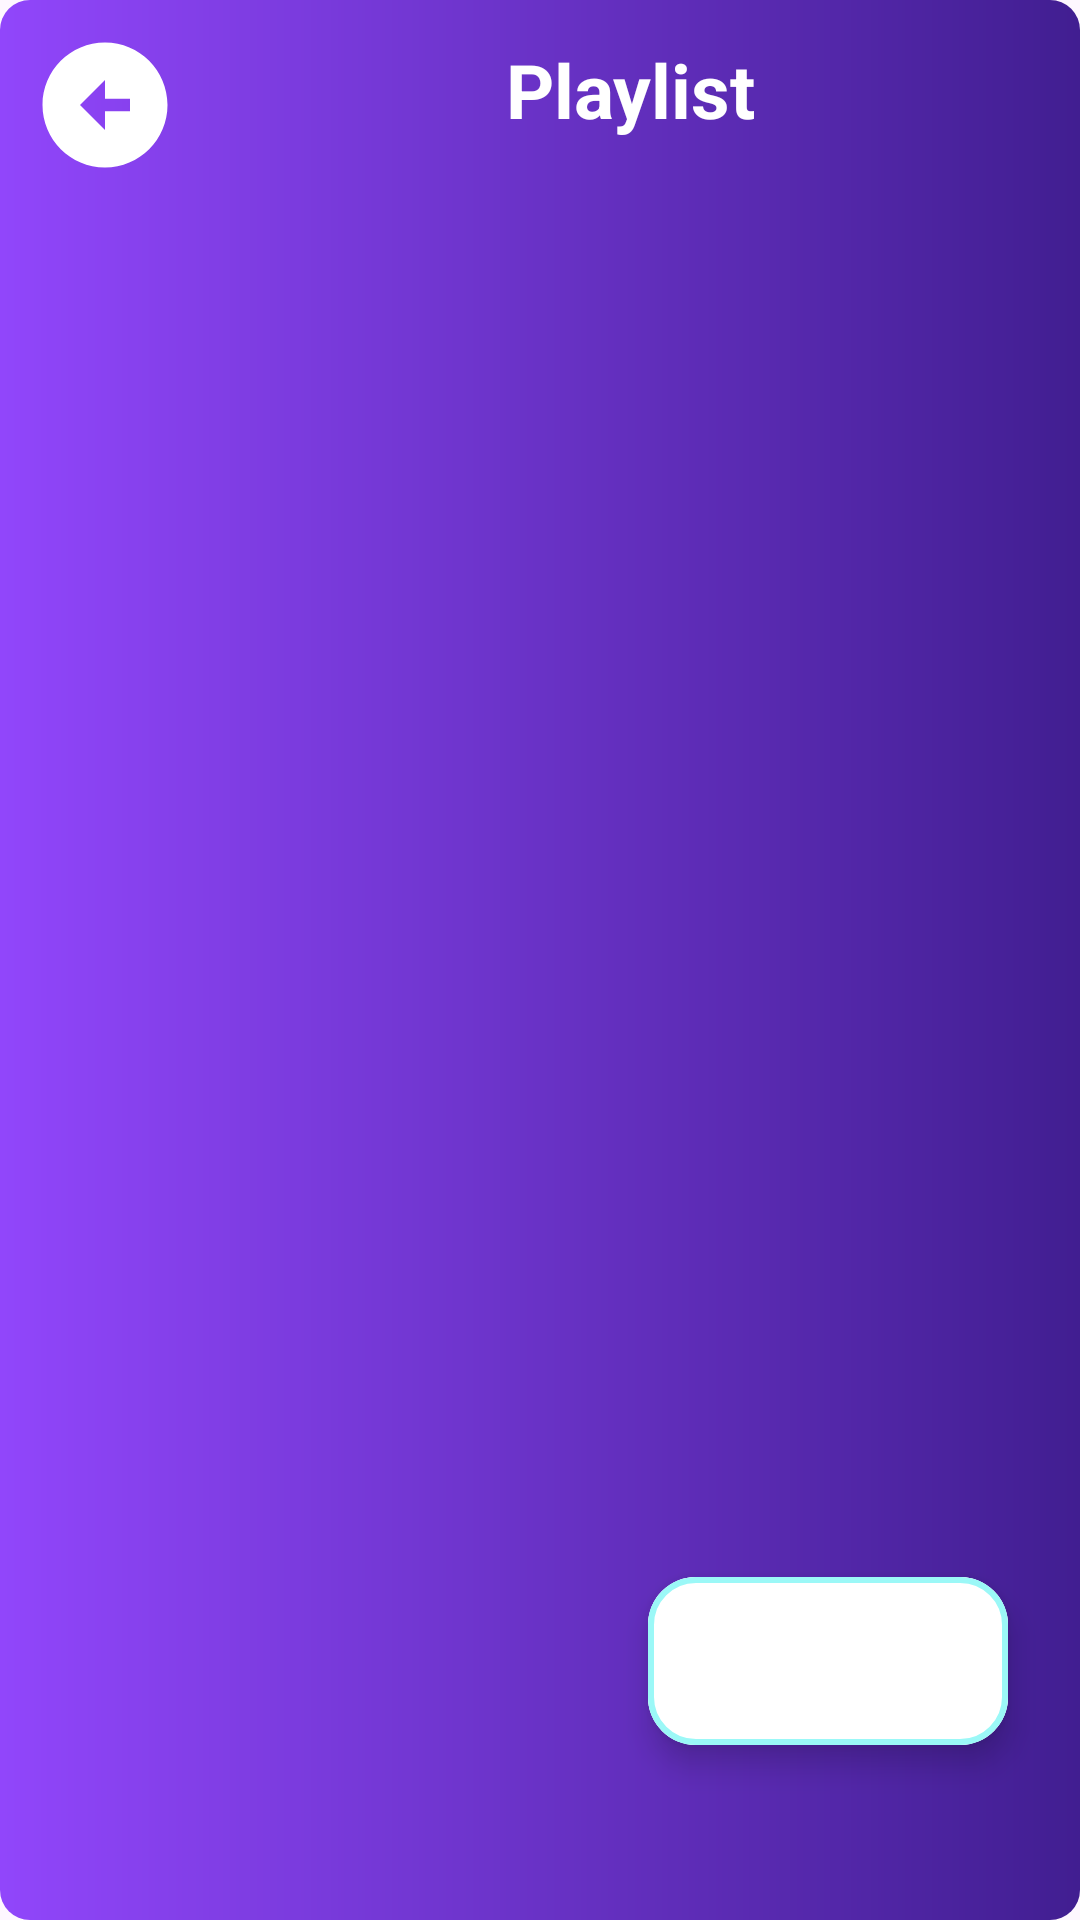

Named icons in this screenshot (1080*1920) and their bounding boxes, detection(x1, y1, x2, y2):
arrow left circle: detection(42, 42, 168, 168)
